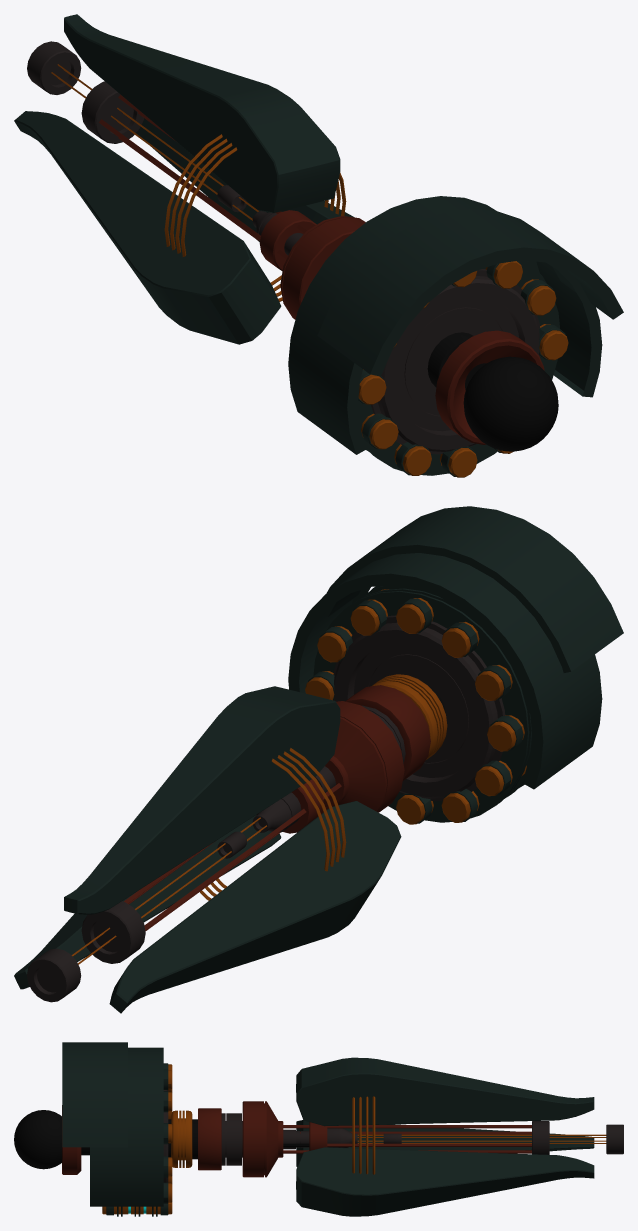
The model's file is Railgun.FBX.
3 views of the same model, one above another, from view 1: azimuth 30°, elevation 25°; view 2: azimuth 150°, elevation 25°; view 3: azimuth 270°, elevation 25° (orthographic). The views are drawn at different scales.
Parts seen in each view (by area): view 1: Sphere001; view 2: Sphere001; view 3: Sphere001.
Boxes of the visible parts, x1,y1,x2,y2 form: Sphere001: [14, 14, 623, 477]; Sphere001: [14, 506, 623, 1013]; Sphere001: [14, 1042, 623, 1216].
Size of the model in its own units: 47.46 by 45.13 by 157.
